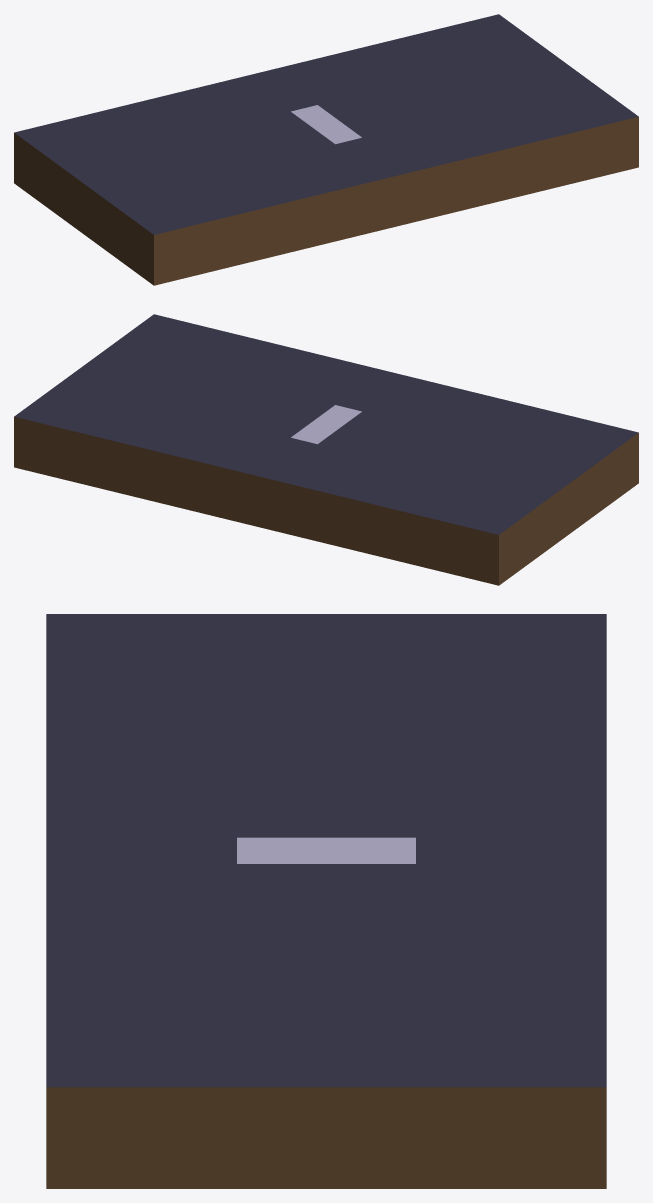
Rendered from road_2_car.fbx.
3 views of the same model, one above another, from view 1: azimuth 30°, elevation 25°; view 2: azimuth 150°, elevation 25°; view 3: azimuth 270°, elevation 25° (orthographic). The views are drawn at different scales.
Visible parts, largest first — view 1: Cube.090; view 2: Cube.090; view 3: Cube.090.
Part boxes in pixels (box(x1,y1,x2,y2)): Cube.090: box(14, 14, 638, 285); Cube.090: box(14, 314, 638, 585); Cube.090: box(46, 614, 606, 1188).
Bounding box in the file's own units: 2000 × 200 × 1000.
1 material, 1 textured.
